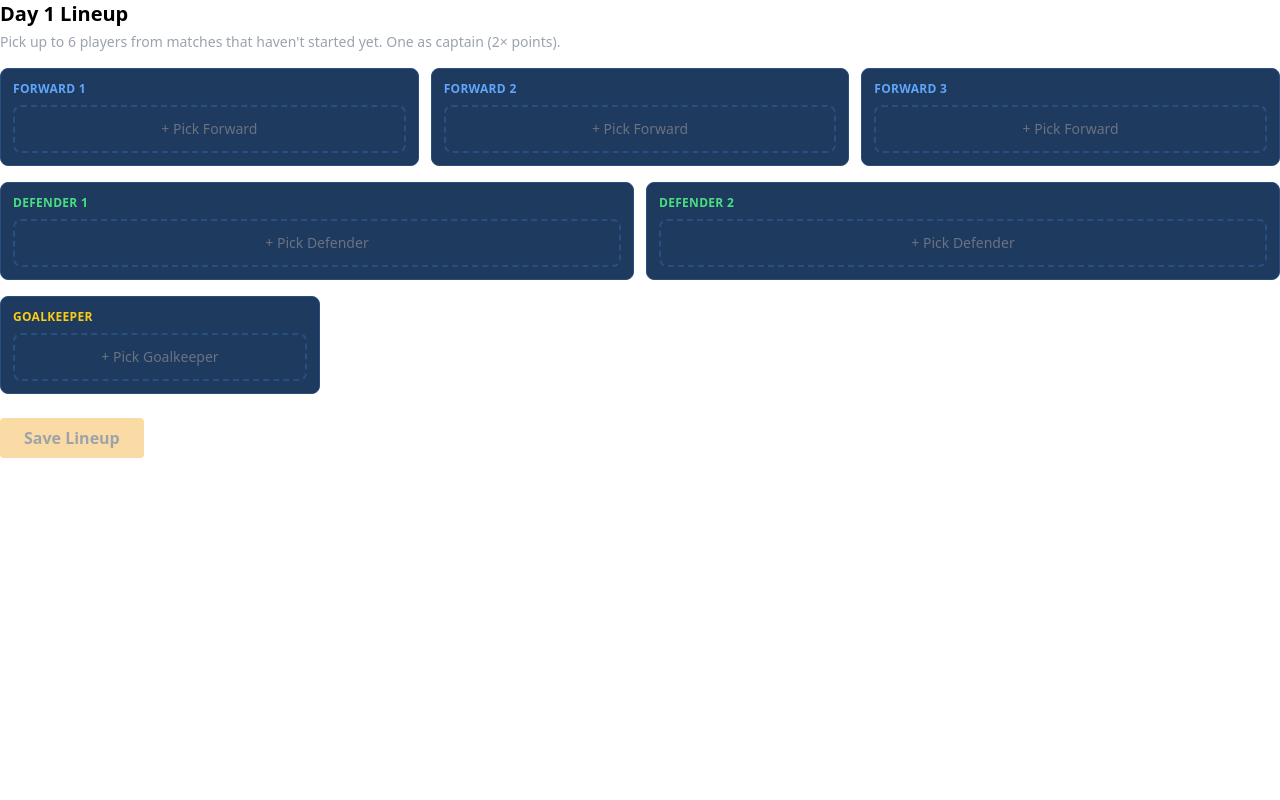
Scenario: Dashboard › clicking a Pick Forward slot opens the PlayerPickerModal
Expected: the field with placeholder "search by name" is not shown
Click the button with test id "pick-Forward" below "Forward 1": x=209, y=129 [13,105,406,153]
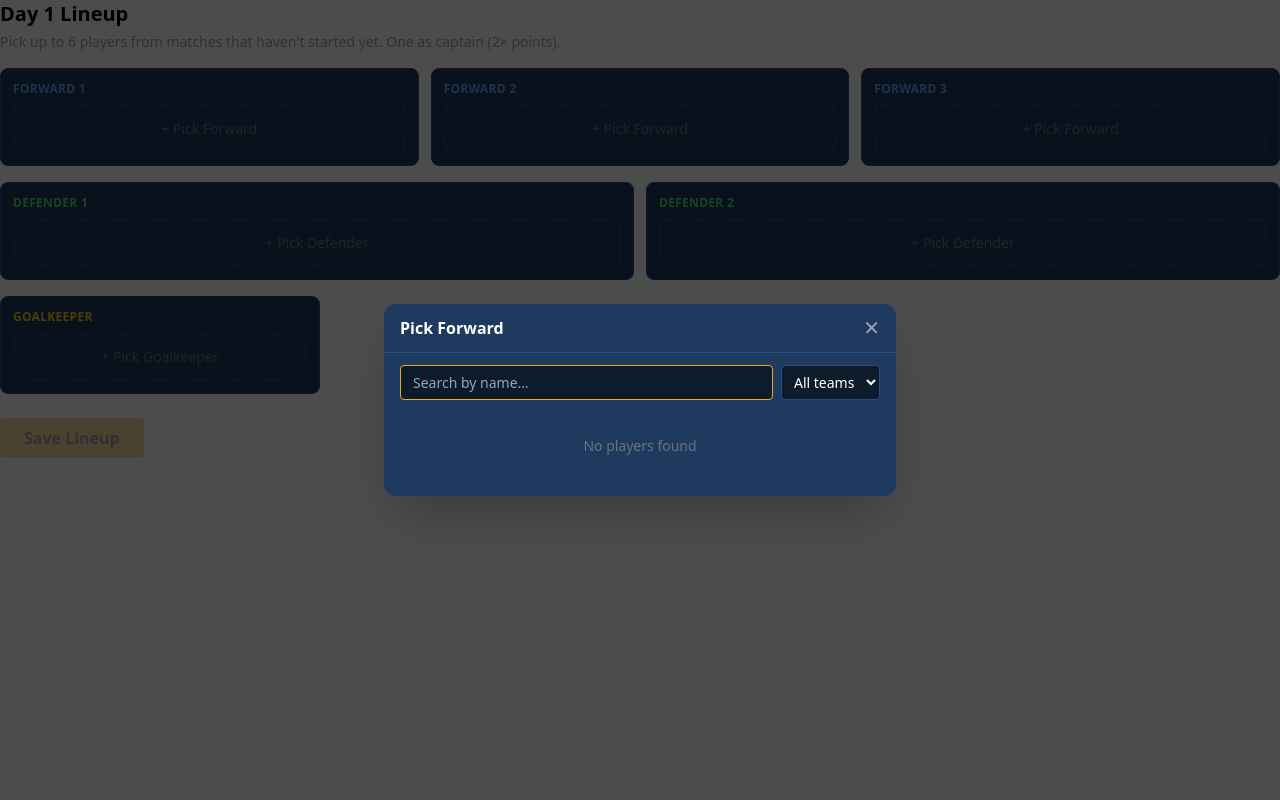
Now the field with placeholder "Search by name…" is shown, box [400,365,773,400]
